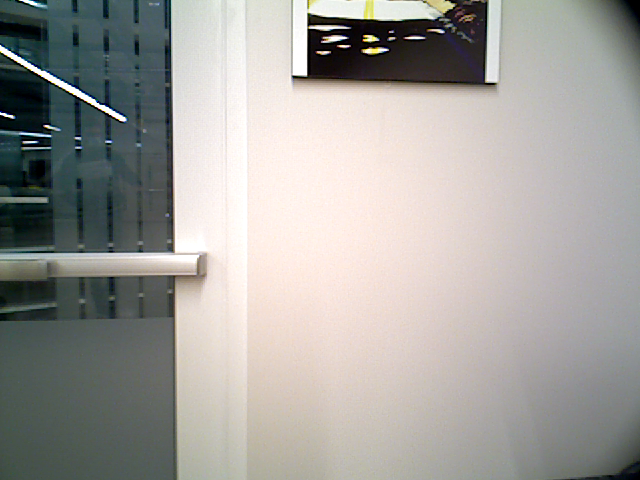painting3: (294, 1, 499, 83)
